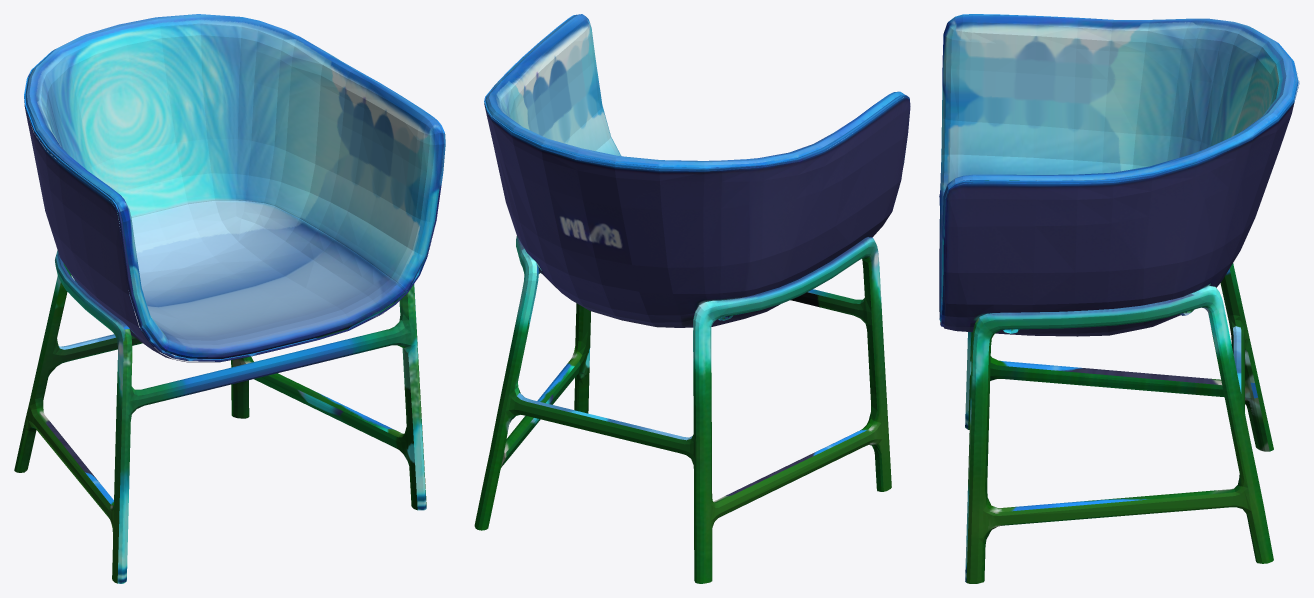
Rendered from edited_mesh.glb.
3 renders of one model, left to right at view 1: azimuth 30°, elevation 25°; view 2: azimuth 150°, elevation 25°; view 3: azimuth 270°, elevation 25°, orthographic. The views are drawn at different scales.
Visible parts, largest first — view 1: normalized_model.obj; view 2: normalized_model.obj; view 3: normalized_model.obj.
Part boxes in pixels (left/top/right/bottom): normalized_model.obj: left=14, top=14, right=445, bottom=583; normalized_model.obj: left=474, top=14, right=910, bottom=583; normalized_model.obj: left=939, top=14, right=1299, bottom=583.
Bounding box in the file's own units: 1.18 × 1.41 × 1.07.
1 material, 1 textured.
